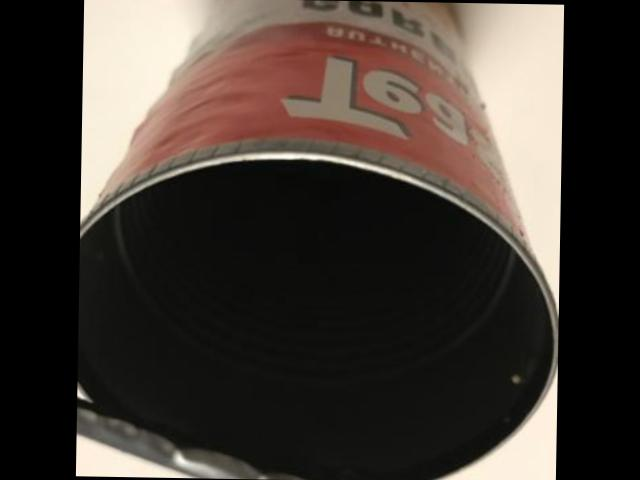metal: (77, 0, 559, 480)
